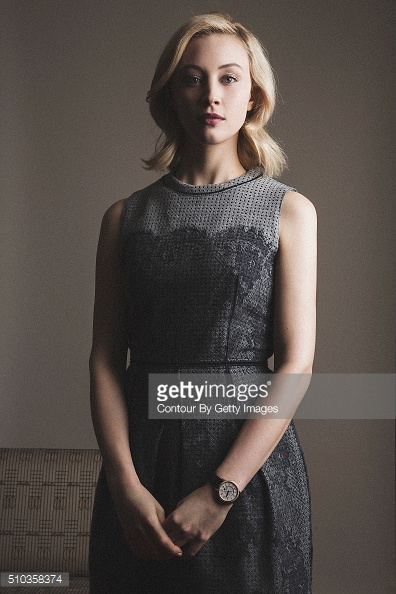em pe: (65, 4, 318, 594)
